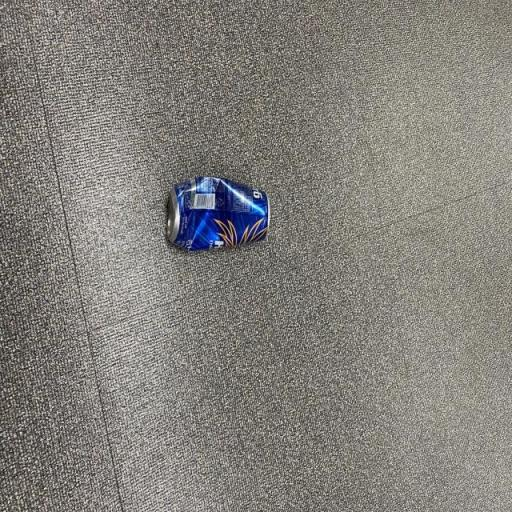metal: (155, 161, 284, 262)
